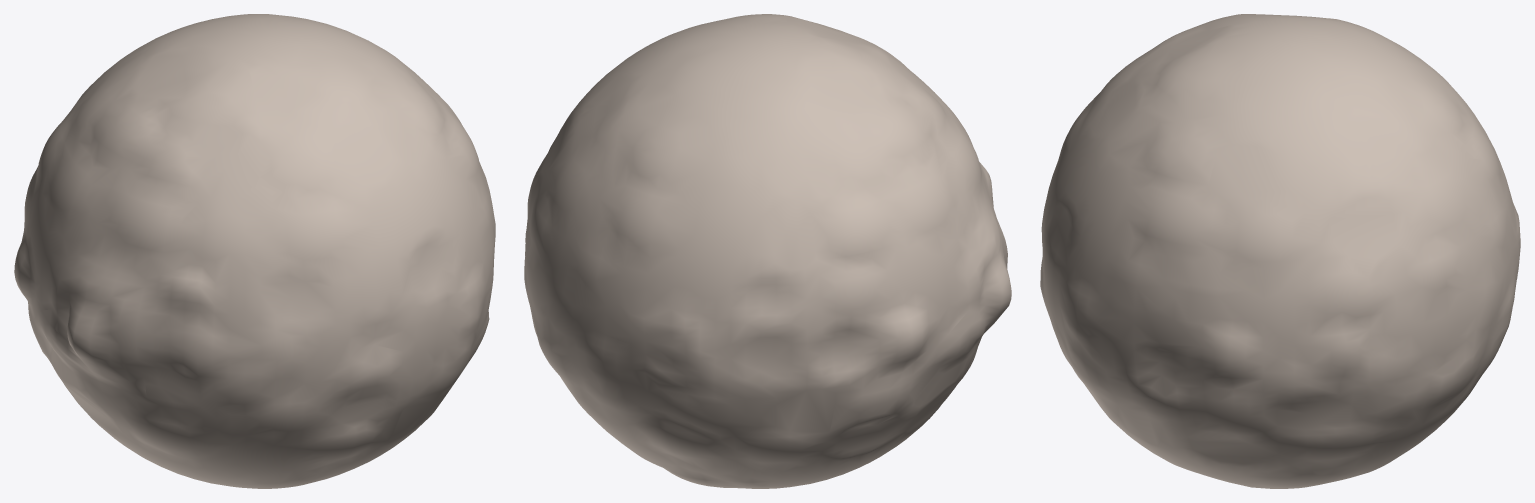
File: asteroid-bennu.glb
3 renders of one model, left to right at view 1: azimuth 30°, elevation 25°; view 2: azimuth 150°, elevation 25°; view 3: azimuth 270°, elevation 25°, orthographic.
Parts seen in each view (by area): view 1: Fake; view 2: Fake; view 3: Fake.
Part boxes in pixels (x1,y1,x2,y2): Fake: (14, 14, 495, 488); Fake: (524, 14, 1011, 488); Fake: (1040, 14, 1520, 488).
Size of the model in its own units: 1 by 0.9636 by 0.9696.
